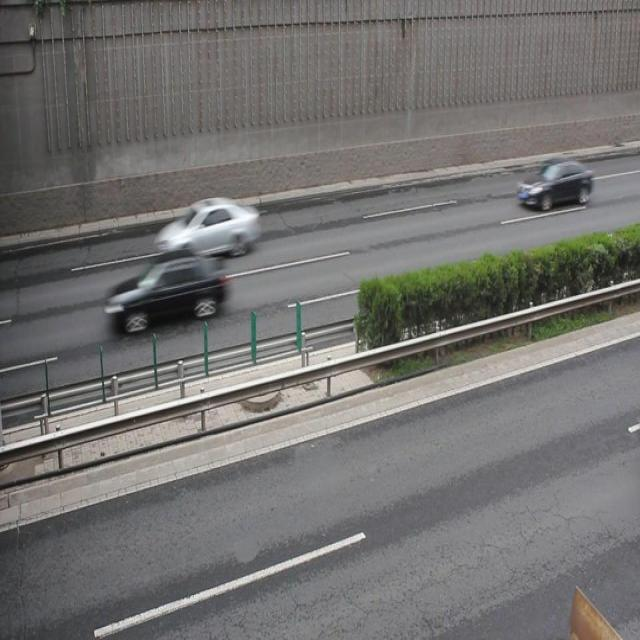car: (105, 252, 231, 332), (154, 193, 259, 256), (516, 159, 593, 213)
